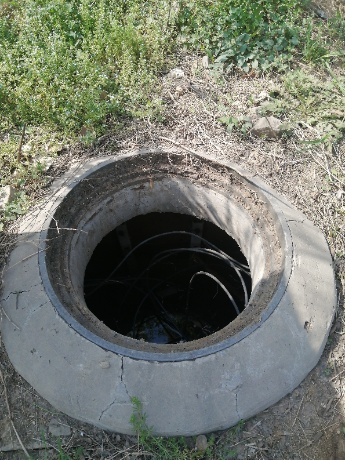lose: (38, 146, 294, 362)
